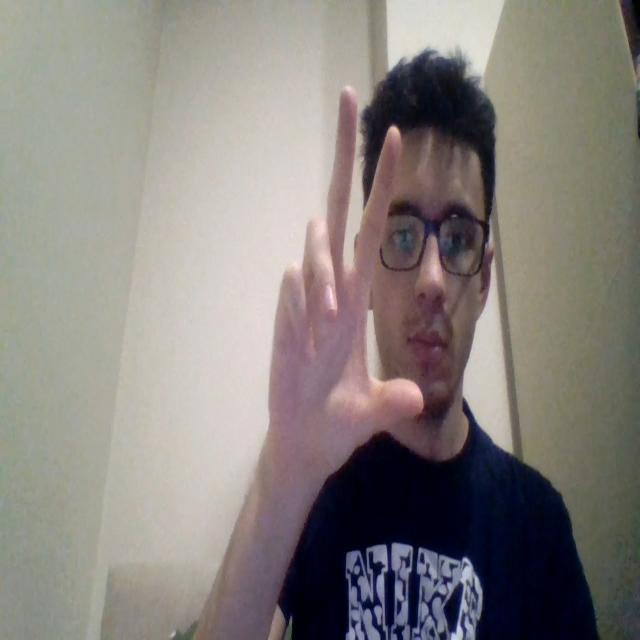no: (262, 84, 424, 502)
